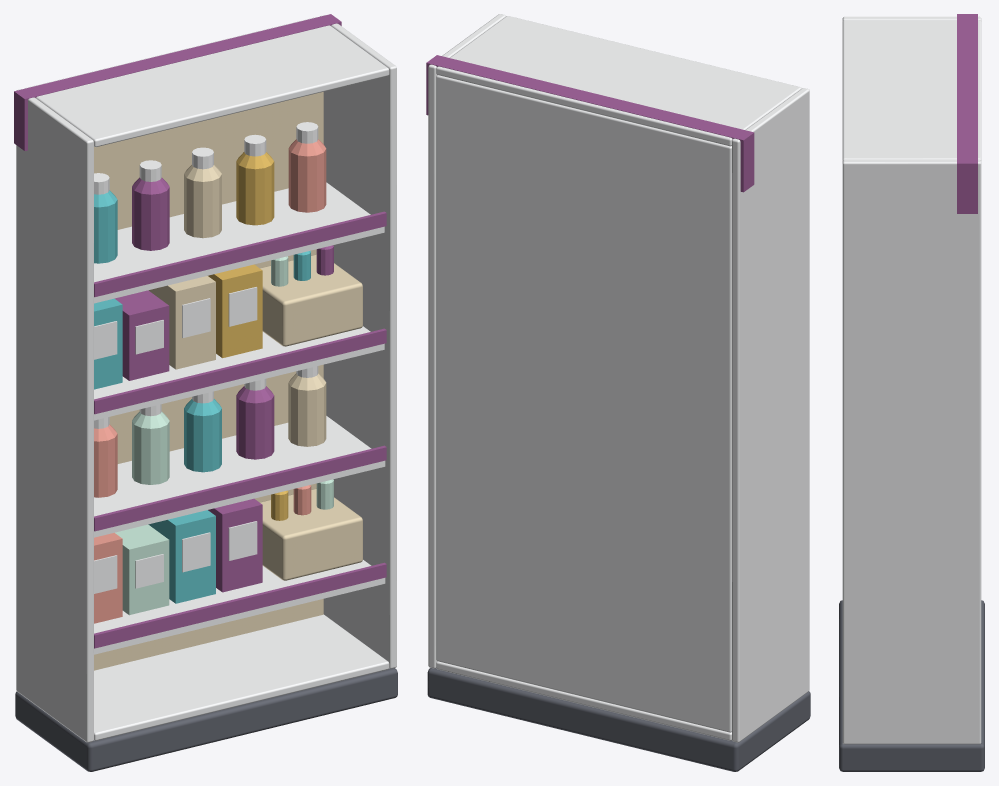
The model's file is pharmacy-and-high-street-chemist-gift-and-toiletries-d-22da7480__37511.glb.
3 renders of one model, left to right at view 1: azimuth 30°, elevation 25°; view 2: azimuth 150°, elevation 25°; view 3: azimuth 270°, elevation 25°, orthographic. The views are drawn at different scales.
Parts seen in each view (by area): view 1: gift-and-toiletries-display; view 2: gift-and-toiletries-display; view 3: gift-and-toiletries-display.
Part boxes in pixels (left/top/right/bottom): gift-and-toiletries-display: left=14, top=14, right=397, bottom=771; gift-and-toiletries-display: left=426, top=14, right=810, bottom=771; gift-and-toiletries-display: left=839, top=14, right=984, bottom=771.
Bounding box in the file's own units: 1.02 × 1.94 × 0.42.
